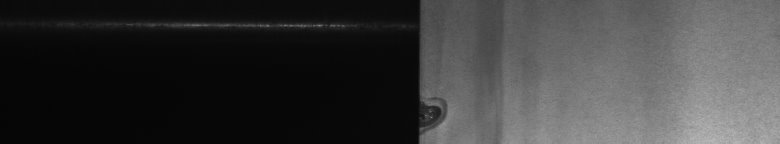hb: (428, 96, 452, 133)
